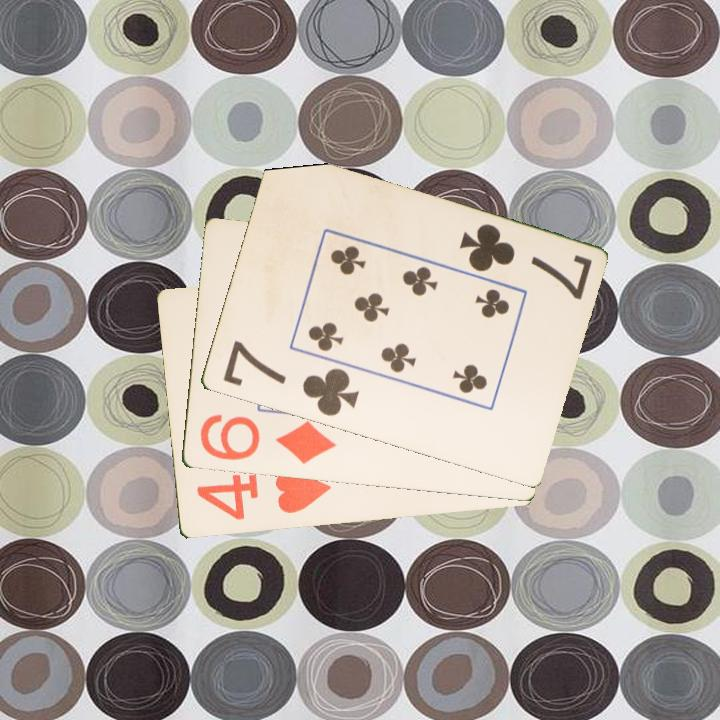4h: (192, 467, 333, 524)
6d: (196, 410, 339, 467)
7c: (219, 337, 362, 420), (455, 220, 595, 303)
